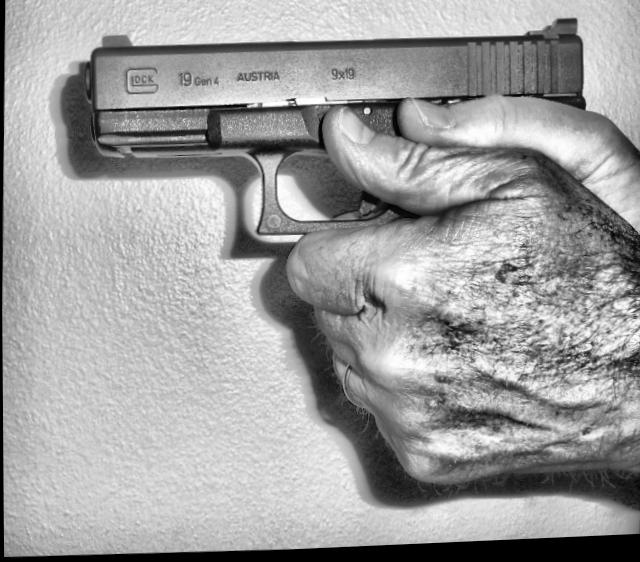pistol: (78, 12, 589, 246)
